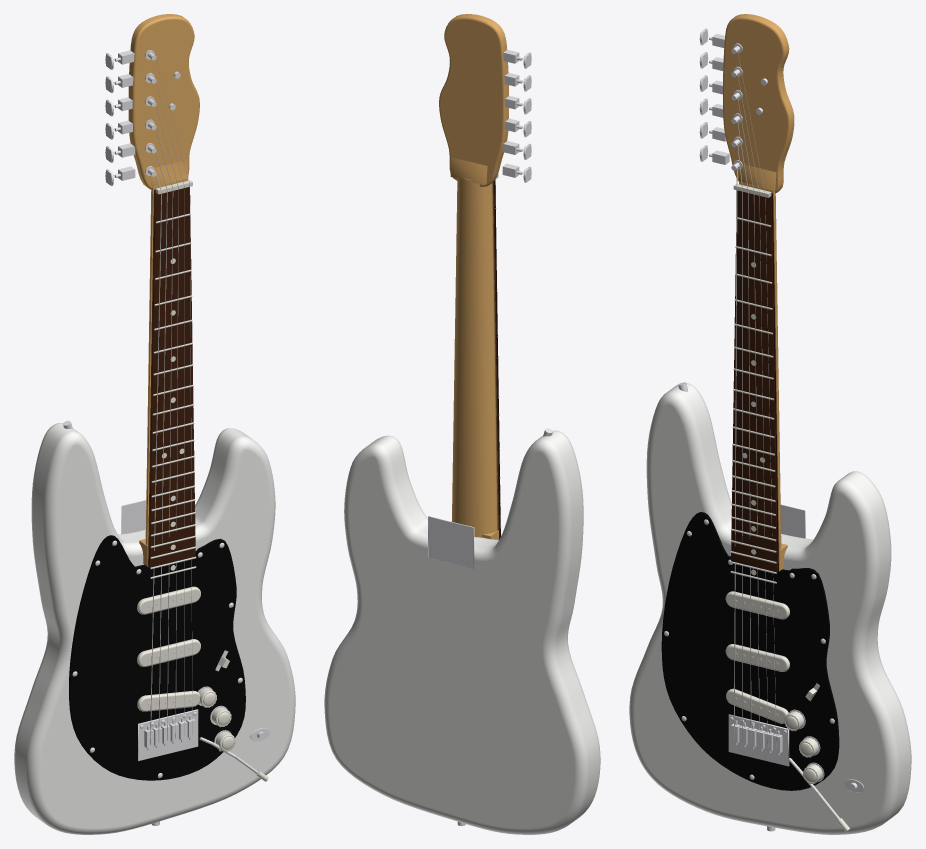
The model's file is GuitarraBlanca.gltf.
The picture shows the model from 3 angles, left to right: view 1: azimuth 30°, elevation 25°; view 2: azimuth 150°, elevation 25°; view 3: azimuth 330°, elevation 25°; orthographic projection. The views are drawn at different scales.
Parts seen in each view (by area): view 1: Cuerpo, Golpeador, Diapason, Mastil, Metal, Cuerdas, Pastillas, Trastes, Clavijas, Perillas; view 2: Cuerpo, Mastil, Metal, Diapason, Clavijas; view 3: Cuerpo, Golpeador, Diapason, Mastil, Metal, Cuerdas, Pastillas, Trastes, Clavijas, Perillas.
Part boxes in pixels (left/top/right/bottom): Cuerpo: left=14, top=423, right=295, bottom=834; Golpeador: left=69, top=535, right=245, bottom=780; Diapason: left=148, top=187, right=195, bottom=567; Mastil: left=128, top=14, right=199, bottom=566; Metal: left=63, top=50, right=269, bottom=825; Cuerdas: left=150, top=59, right=192, bottom=744; Pastillas: left=137, top=180, right=200, bottom=711; Trastes: left=150, top=213, right=196, bottom=578; Clavijas: left=105, top=52, right=156, bottom=185; Perillas: left=199, top=656, right=268, bottom=781; Cuerpo: left=324, top=430, right=600, bottom=834; Mastil: left=439, top=14, right=508, bottom=539; Metal: left=428, top=49, right=552, bottom=826; Diapason: left=493, top=180, right=500, bottom=539; Clavijas: left=516, top=52, right=531, bottom=182; Cuerpo: left=629, top=383, right=911, bottom=834; Golpeador: left=661, top=512, right=839, bottom=790; Diapason: left=731, top=190, right=778, bottom=572; Mastil: left=723, top=14, right=794, bottom=571; Metal: left=664, top=34, right=864, bottom=831; Cuerdas: left=734, top=52, right=776, bottom=749; Pastillas: left=725, top=184, right=789, bottom=723; Trastes: left=730, top=217, right=776, bottom=583; Clavijas: left=699, top=28, right=740, bottom=170; Perillas: left=784, top=688, right=849, bottom=831.
Bounding box in the file's own units: 0.3318 × 0.966 × 0.0672.
